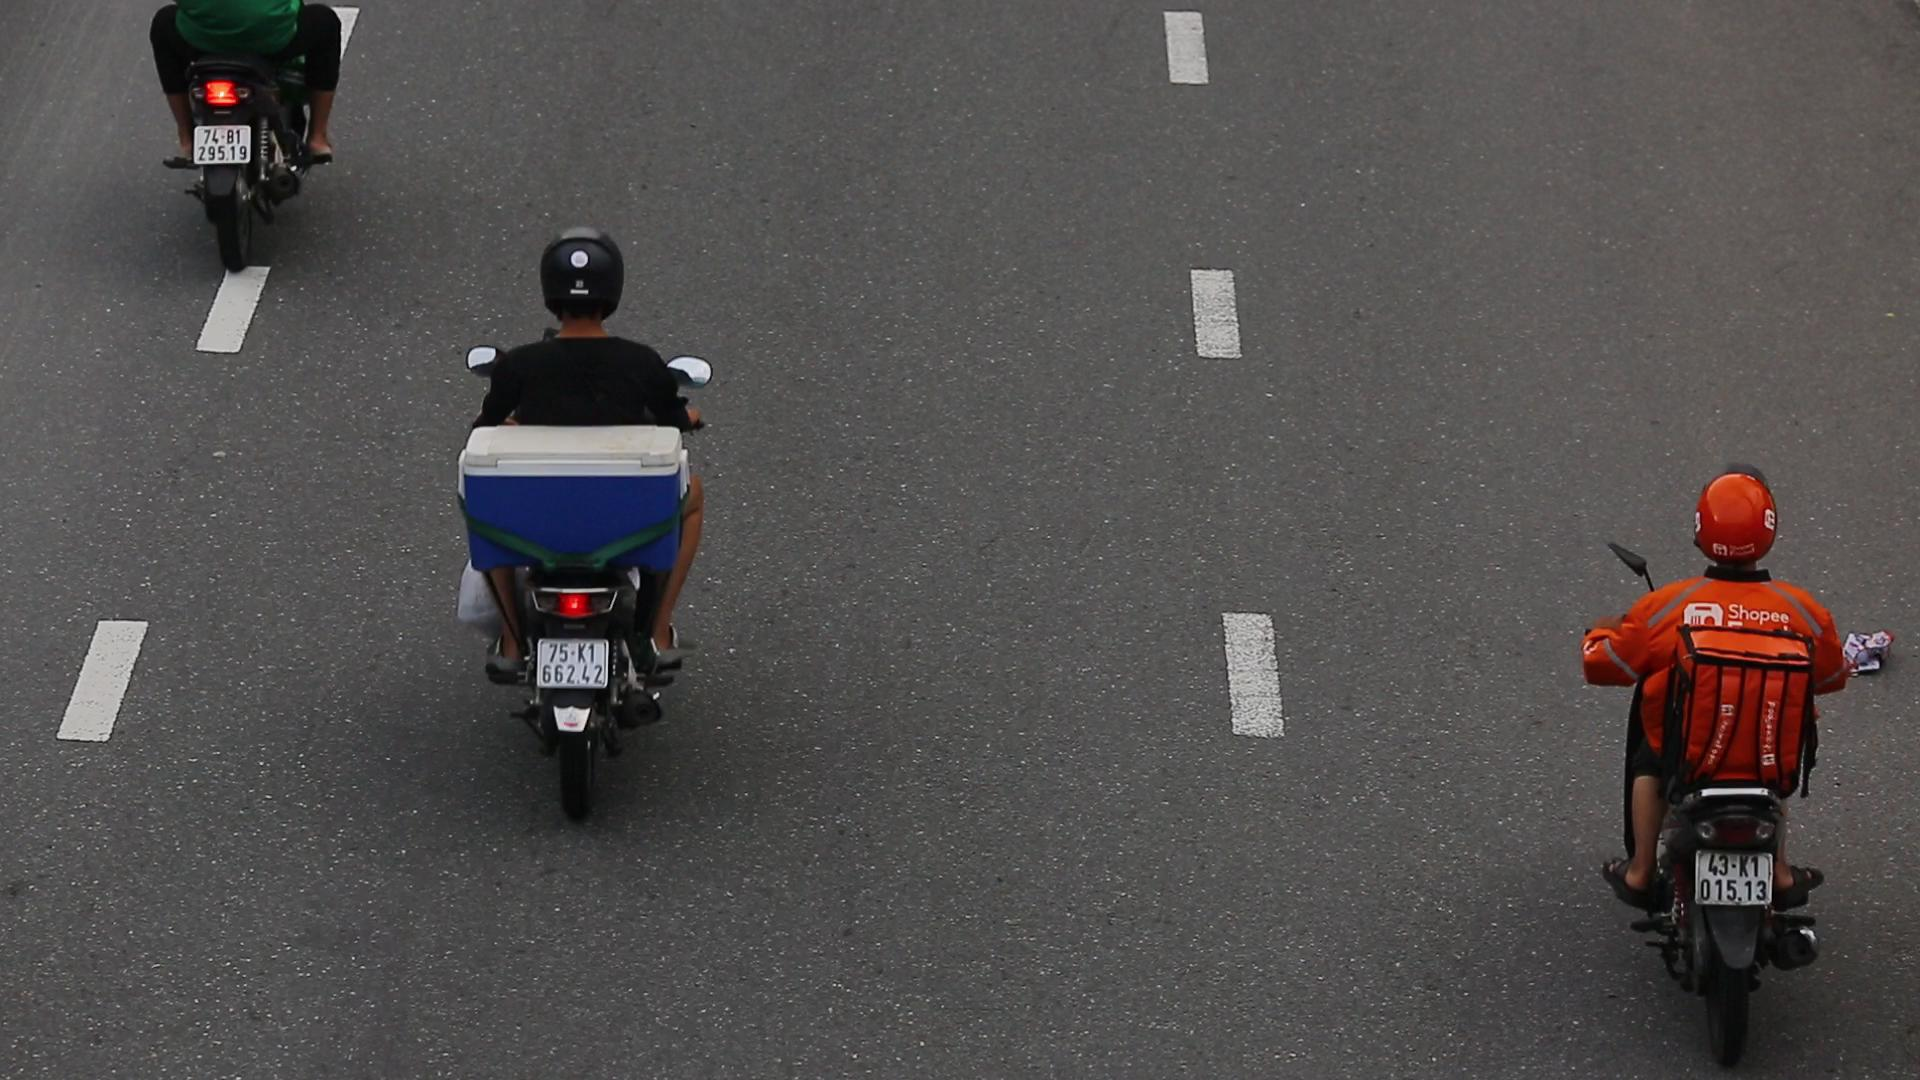motobike: (1559, 458, 1882, 1067), (442, 220, 716, 810)
